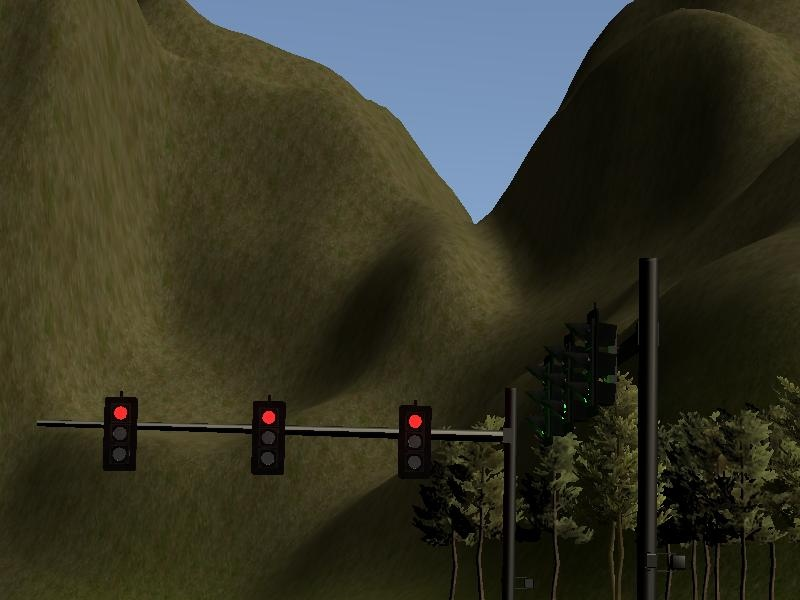red: (102, 397, 138, 474), (397, 404, 432, 481), (253, 402, 286, 477)
